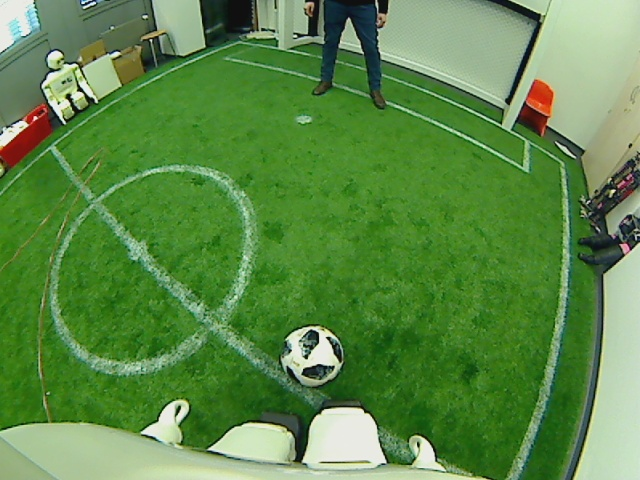ball: (278, 323, 345, 390)
